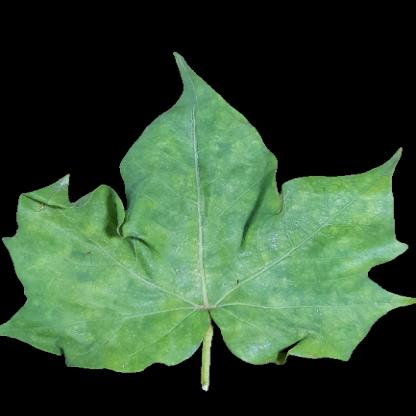curl_stage1: (35, 246, 207, 340), (142, 133, 259, 232), (218, 253, 371, 327), (285, 191, 390, 253), (19, 211, 121, 254), (220, 219, 303, 269), (85, 342, 200, 369), (181, 87, 232, 142)
